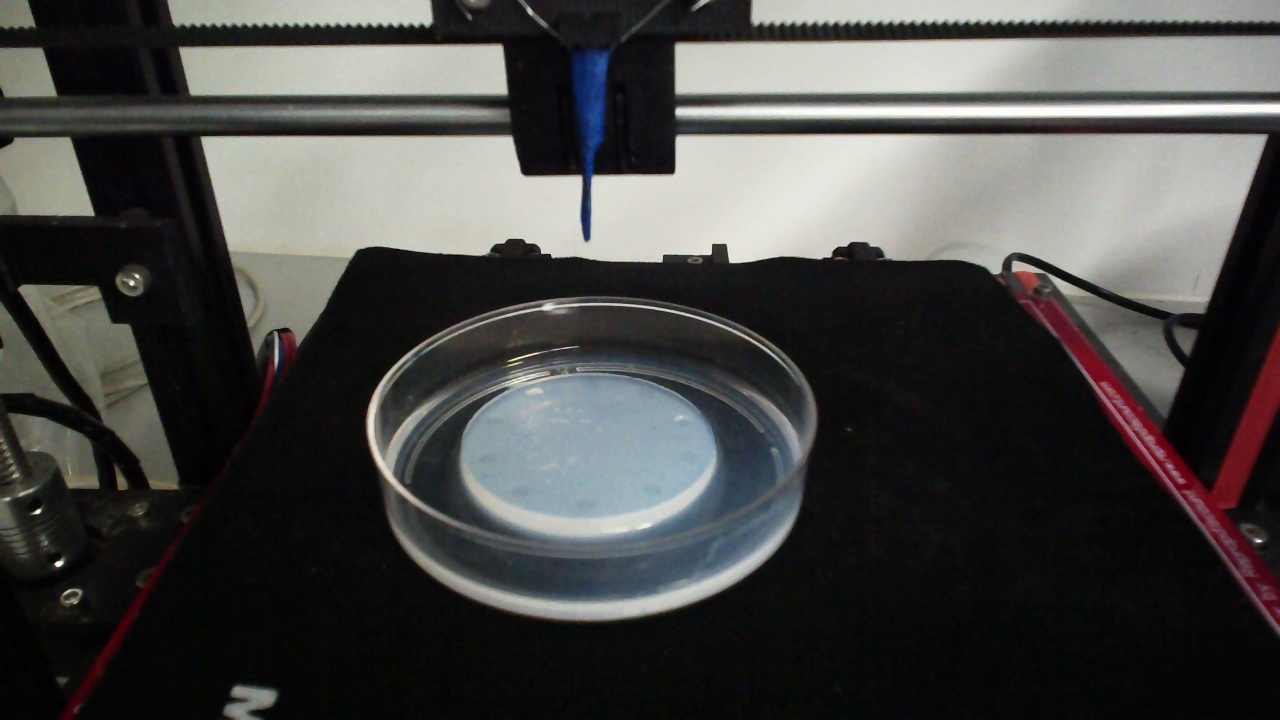groove: (573, 497, 598, 513), (577, 376, 601, 392), (640, 481, 661, 498), (678, 449, 699, 466), (636, 386, 657, 402), (671, 414, 692, 429), (524, 387, 544, 401), (478, 451, 497, 465), (510, 485, 530, 498), (484, 413, 501, 426)
needle: (574, 50, 608, 241)
